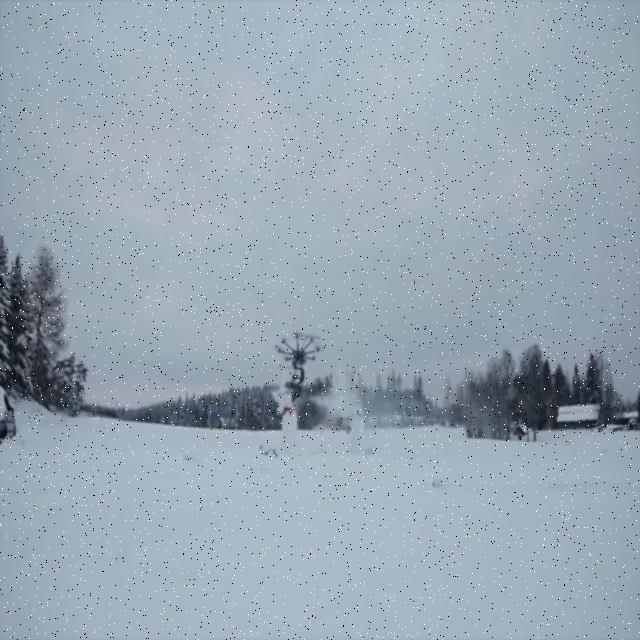UAV: (274, 332, 324, 369)
